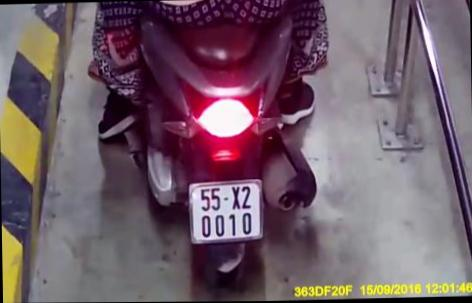LP: (186, 176, 266, 245)
